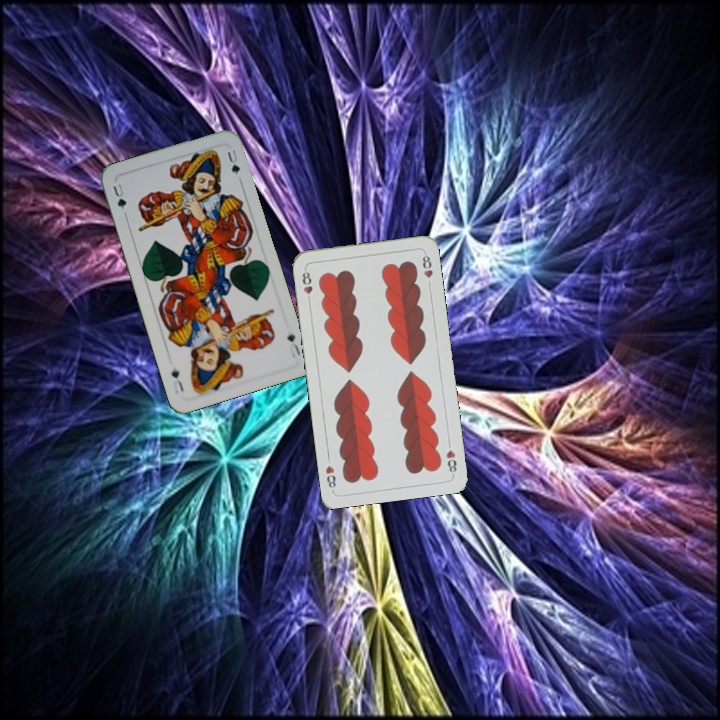GU: (109, 180, 129, 212), (283, 330, 303, 360)
H8: (298, 265, 315, 305), (442, 446, 459, 477)
